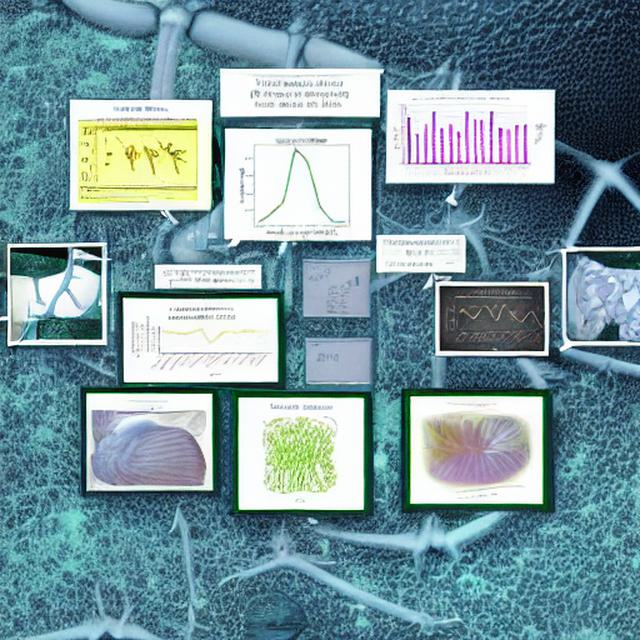Graph: (230, 132, 370, 237), (389, 94, 532, 180), (143, 303, 274, 380), (442, 291, 544, 351)
